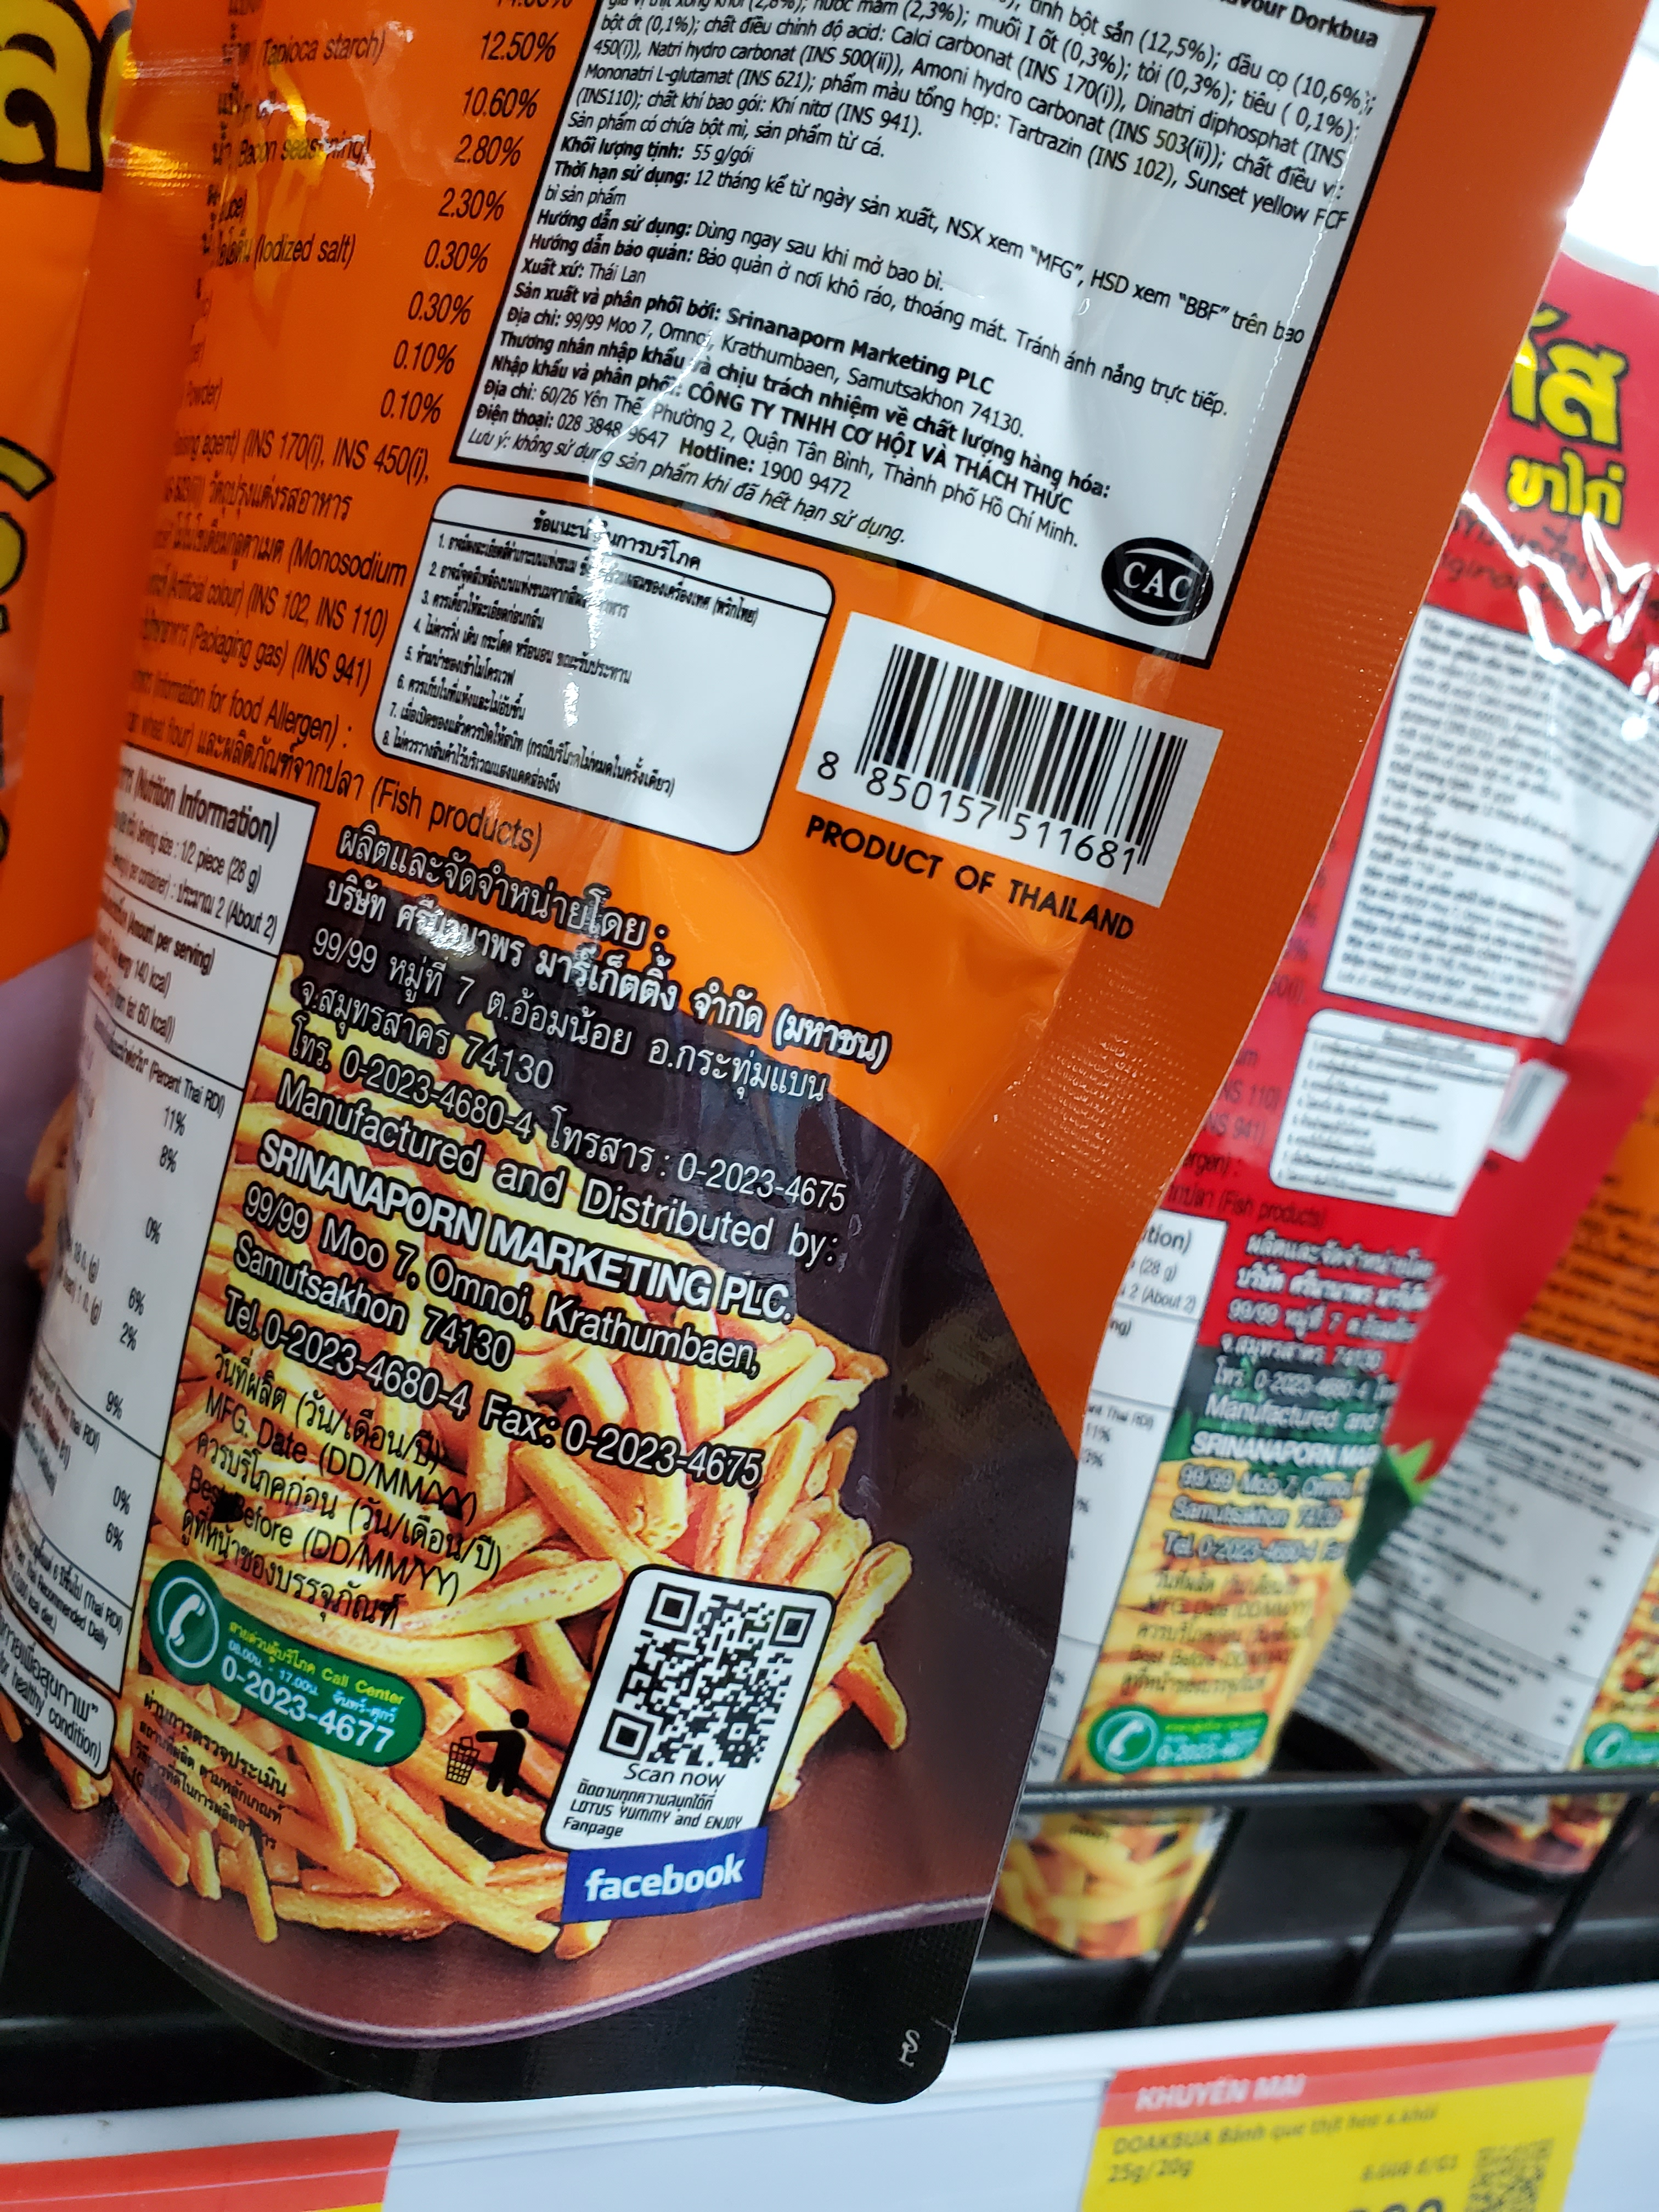barcode: (798, 625, 1201, 913)
qr code: (582, 1569, 840, 1803)
